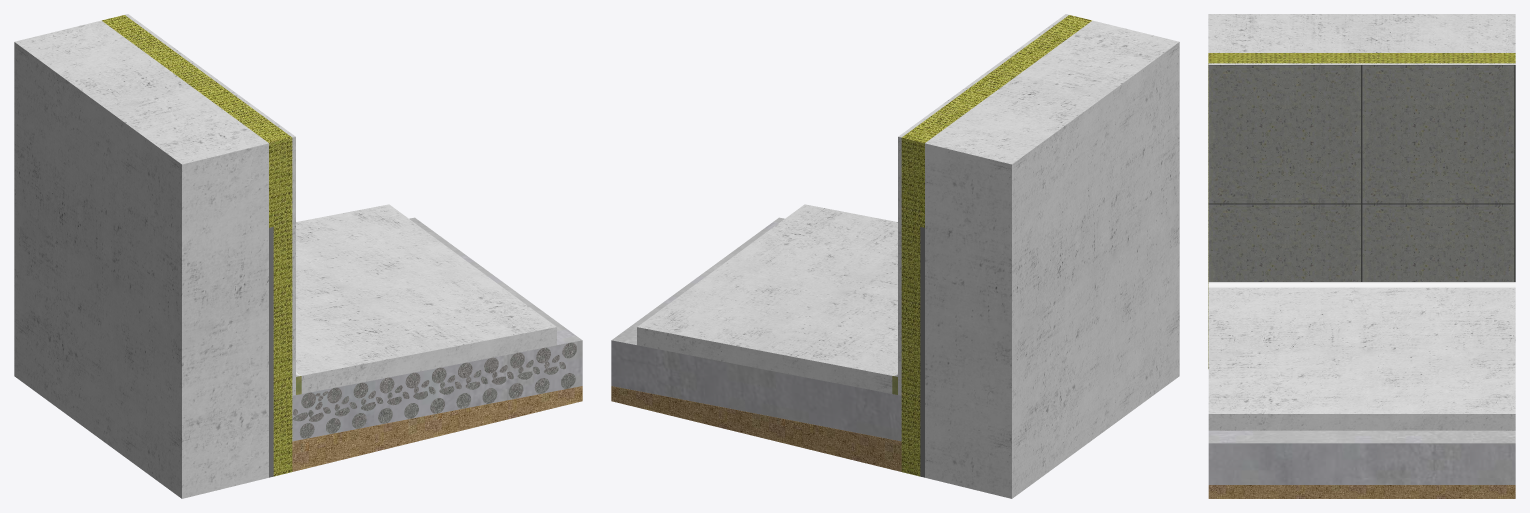
The model's file is apron-flashing.glb.
The picture shows the model from 3 angles, left to right: view 1: azimuth 30°, elevation 25°; view 2: azimuth 150°, elevation 25°; view 3: azimuth 270°, elevation 25°; orthographic projection. The views are drawn at different scales.
Visible parts, largest first — view 1: 钢筋混凝土墙体, 60厚C20细石混凝土面层, 150厚粒径10~40卵石灌M2.5混合砂浆（或150厚3：7, 保温层, 素土夯实，向外坡3%~5%, 饰面层, 防水层; view 2: 钢筋混凝土墙体, 60厚C20细石混凝土面层, 150厚粒径10~40卵石灌M2.5混合砂浆（或150厚3：7, 保温层, 素土夯实，向外坡3%~5%, 饰面层, 防水层; view 3: 饰面层, 60厚C20细石混凝土面层, 150厚粒径10~40卵石灌M2.5混合砂浆（或150厚3：7, 钢筋混凝土墙体, 素土夯实，向外坡3%~5%, 保温层, 密封膏嵌缝.
Boxes of the visible parts, x1,y1,x2,y2 form: 钢筋混凝土墙体: (14, 20, 268, 498); 60厚C20细石混凝土面层: (296, 204, 556, 393); 150厚粒径10~40卵石灌M2.5混合砂浆（或150厚3：7: (292, 217, 582, 441); 保温层: (102, 15, 292, 476); 素土夯实，向外坡3%~5%: (292, 386, 582, 471); 饰面层: (125, 14, 295, 395); 防水层: (269, 227, 273, 477); 钢筋混凝土墙体: (925, 20, 1179, 498); 60厚C20细石混凝土面层: (637, 204, 897, 393); 150厚粒径10~40卵石灌M2.5混合砂浆（或150厚3：7: (611, 217, 901, 441); 保温层: (901, 15, 1091, 476); 素土夯实，向外坡3%~5%: (611, 386, 901, 471); 饰面层: (898, 14, 1068, 395); 防水层: (920, 227, 924, 477); 饰面层: (1208, 63, 1515, 281); 60厚C20细石混凝土面层: (1208, 287, 1515, 430); 150厚粒径10~40卵石灌M2.5混合砂浆（或150厚3：7: (1208, 430, 1515, 484); 钢筋混凝土墙体: (1208, 14, 1515, 52); 素土夯实，向外坡3%~5%: (1208, 485, 1515, 498); 保温层: (1208, 53, 1515, 368); 密封膏嵌缝: (1208, 282, 1515, 287).
Bounding box in the file's own units: 1.38 × 1.1 × 1.
Materials: 11 (9 with a texture image).
